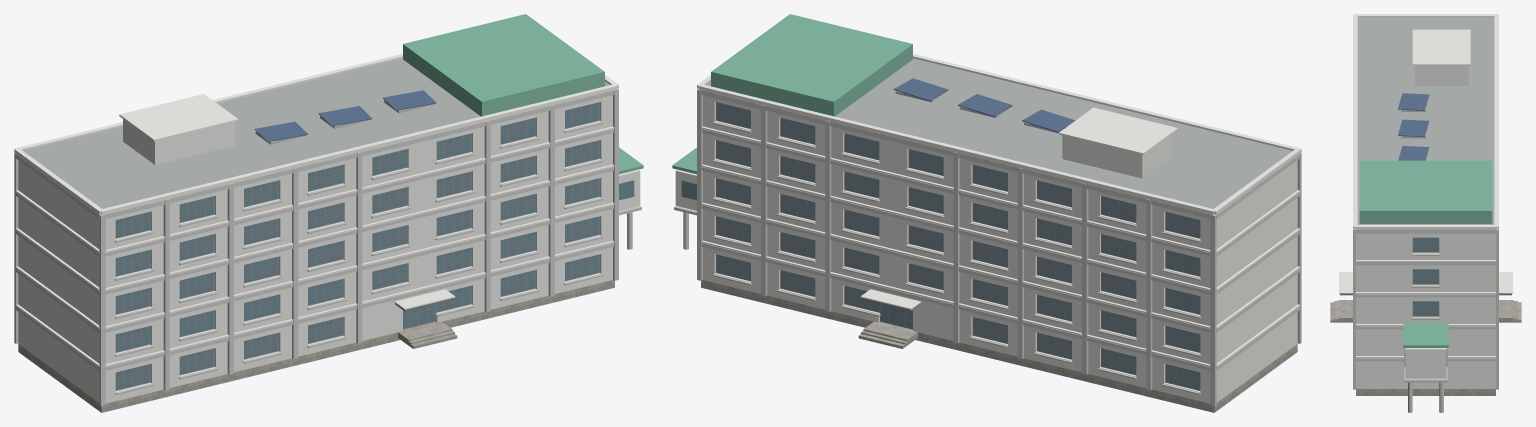
3 renders of one model, left to right at view 1: azimuth 30°, elevation 25°; view 2: azimuth 150°, elevation 25°; view 3: azimuth 270°, elevation 25°, orthographic. The views are drawn at different scales.
Visible parts, largest first — view 1: bongwan__panel, bongwan__glass, bongwan__concrete, bongwan__roof, bongwan__cap, bongwan__greenroof, bongwan__frame, bongwan__sill, bongwan__stone, bongwan__solar, bongwan__stair-front; view 2: bongwan__panel, bongwan__sideglass, bongwan__concrete, bongwan__roof, bongwan__cap, bongwan__greenroof, bongwan__frame, bongwan__sill, bongwan__stone, bongwan__solar, bongwan__glass, bongwan__stair-rear-west; view 3: bongwan__panel, bongwan__roof, bongwan__greenroof, bongwan__cap, bongwan__concrete, bongwan__solar, bongwan__glass, bongwan__stone, bongwan__frame, bongwan__stair-front, bongwan__stair-rear-west, bongwan__threshold-front (+1 smaller).
Boxes of the visible parts, bbox=[...] form: bongwan__panel: bbox=[18, 95, 640, 403]; bongwan__glass: bbox=[115, 102, 634, 389]; bongwan__concrete: bbox=[14, 89, 641, 406]; bongwan__roof: bbox=[23, 58, 609, 208]; bongwan__cap: bbox=[14, 53, 618, 366]; bongwan__greenroof: bbox=[403, 14, 643, 174]; bongwan__frame: bbox=[115, 102, 599, 390]; bongwan__sill: bbox=[115, 122, 603, 394]; bongwan__stone: bbox=[18, 280, 614, 412]; bongwan__solar: bbox=[254, 90, 436, 142]; bongwan__stair-front: bbox=[406, 327, 457, 348]; bongwan__panel: bbox=[675, 95, 1297, 403]; bongwan__sideglass: bbox=[716, 102, 1200, 389]; bongwan__concrete: bbox=[674, 89, 1301, 406]; bongwan__roof: bbox=[706, 58, 1292, 208]; bongwan__cap: bbox=[697, 53, 1301, 366]; bongwan__greenroof: bbox=[672, 14, 912, 174]; bongwan__frame: bbox=[716, 102, 1200, 390]; bongwan__sill: bbox=[712, 122, 1200, 394]; bongwan__stone: bbox=[701, 280, 1297, 412]; bongwan__solar: bbox=[893, 78, 1075, 132]; bongwan__glass: bbox=[681, 180, 912, 328]; bongwan__stair-rear-west: bbox=[858, 327, 909, 348]; bongwan__panel: bbox=[1356, 66, 1495, 388]; bongwan__roof: bbox=[1357, 17, 1494, 224]; bongwan__greenroof: bbox=[1359, 160, 1492, 347]; bongwan__cap: bbox=[1339, 14, 1512, 357]; bongwan__concrete: bbox=[1353, 228, 1498, 412]; bongwan__solar: bbox=[1398, 93, 1429, 160]; bongwan__glass: bbox=[1404, 237, 1447, 366]; bongwan__stone: bbox=[1356, 389, 1495, 395]; bongwan__frame: bbox=[1412, 238, 1439, 316]; bongwan__stair-front: bbox=[1330, 300, 1341, 322]; bongwan__stair-rear-west: bbox=[1510, 300, 1521, 322]; bongwan__threshold-front: bbox=[1342, 300, 1352, 322].
Bounding box in the file's own units: 53.57 × 20.32 × 18.44.
14 materials, 1 textured.
